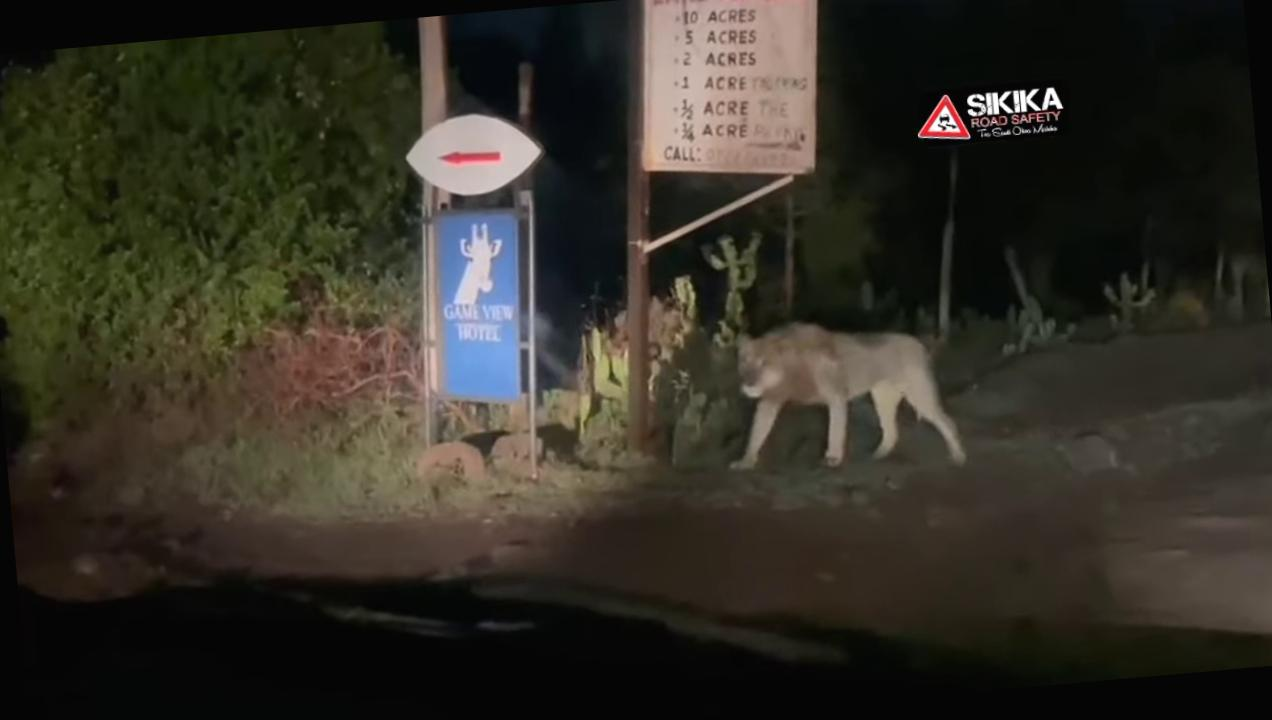lions: (708, 290, 995, 502)
